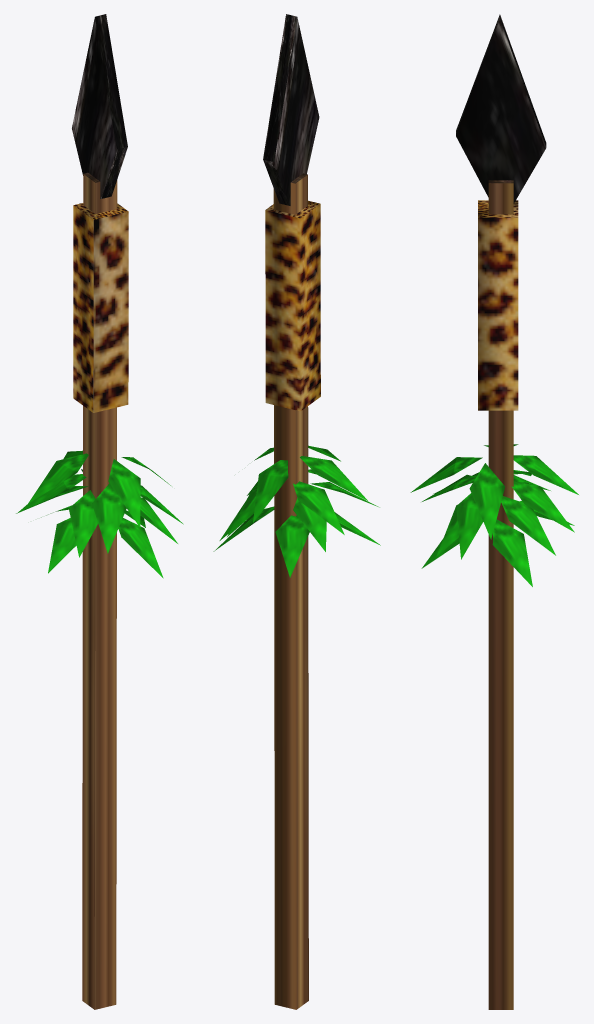
File: maya_lana_curta_3.dae
3 views of the same model, side by side, from view 1: azimuth 30°, elevation 25°; view 2: azimuth 150°, elevation 25°; view 3: azimuth 270°, elevation 25° (orthographic).
Parts seen in each view (by area): view 1: maya_lana_curta_3; view 2: maya_lana_curta_3; view 3: maya_lana_curta_3.
Part boxes in pixels (box(x1,y1,x2,y2)): maya_lana_curta_3: box(16, 14, 183, 1009); maya_lana_curta_3: box(213, 14, 380, 1009); maya_lana_curta_3: box(410, 14, 578, 1009).
Bounding box in the file's own units: 0.6941 × 0.6984 × 4.48.
Materials: 1 (1 with a texture image).
